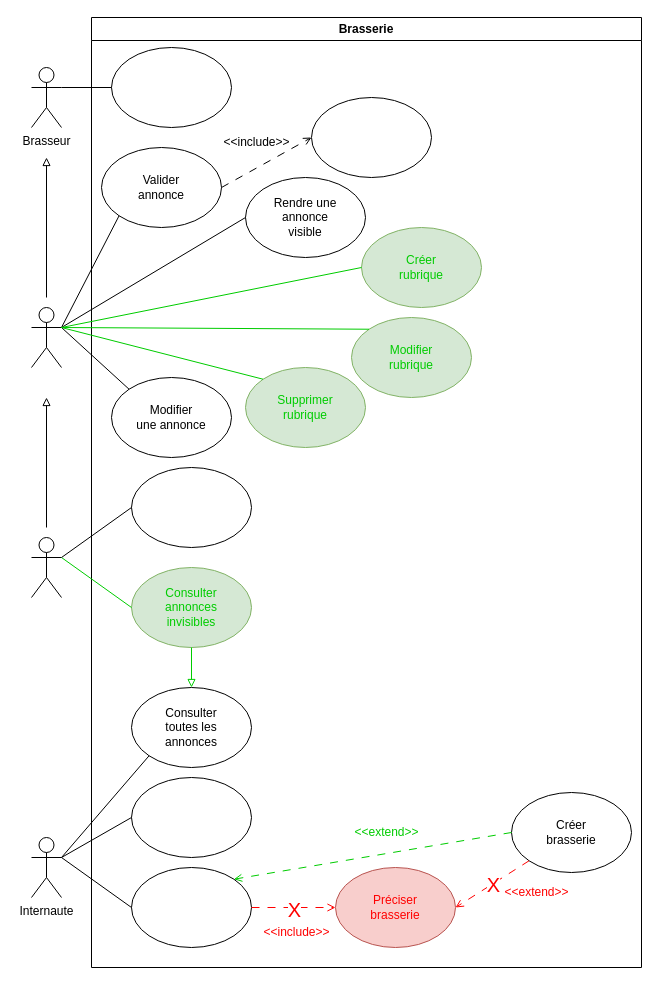
Image size: 659x985. Some labels were removed from this diagram. The shapes that lost their labels are listed below. From the top down, each one's box as (x1, y1, x2, y2) in pixels, then its label:
(110, 46, 232, 128): Soumettre une annonce de vente d'occasion
(310, 96, 432, 178): Envoyer mail au brasseur virement
(30, 306, 62, 368): Admin
(130, 466, 252, 548): Signaler paiement d'une annonce
(30, 536, 62, 598): Comptable
(130, 776, 252, 858): Se connecter
(130, 866, 252, 948): S'inscrire
